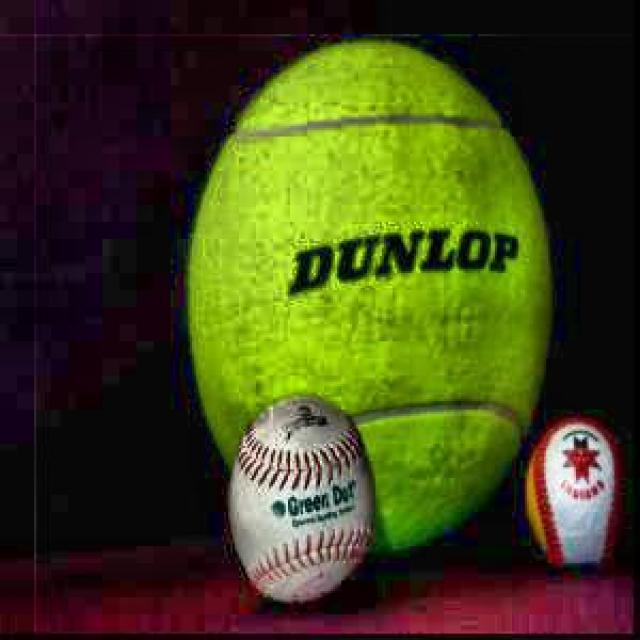tennis-ball: (188, 40, 550, 556)
